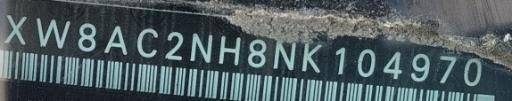letter: (32, 16, 74, 50), (2, 12, 30, 46), (272, 38, 298, 73), (103, 24, 129, 57), (188, 30, 214, 63), (217, 34, 243, 67), (136, 25, 160, 58), (408, 51, 432, 84), (434, 53, 458, 86), (245, 38, 269, 69), (75, 20, 97, 53), (162, 29, 184, 62), (300, 41, 322, 74), (356, 46, 378, 79), (382, 49, 404, 82), (462, 56, 484, 88), (331, 45, 345, 76)
